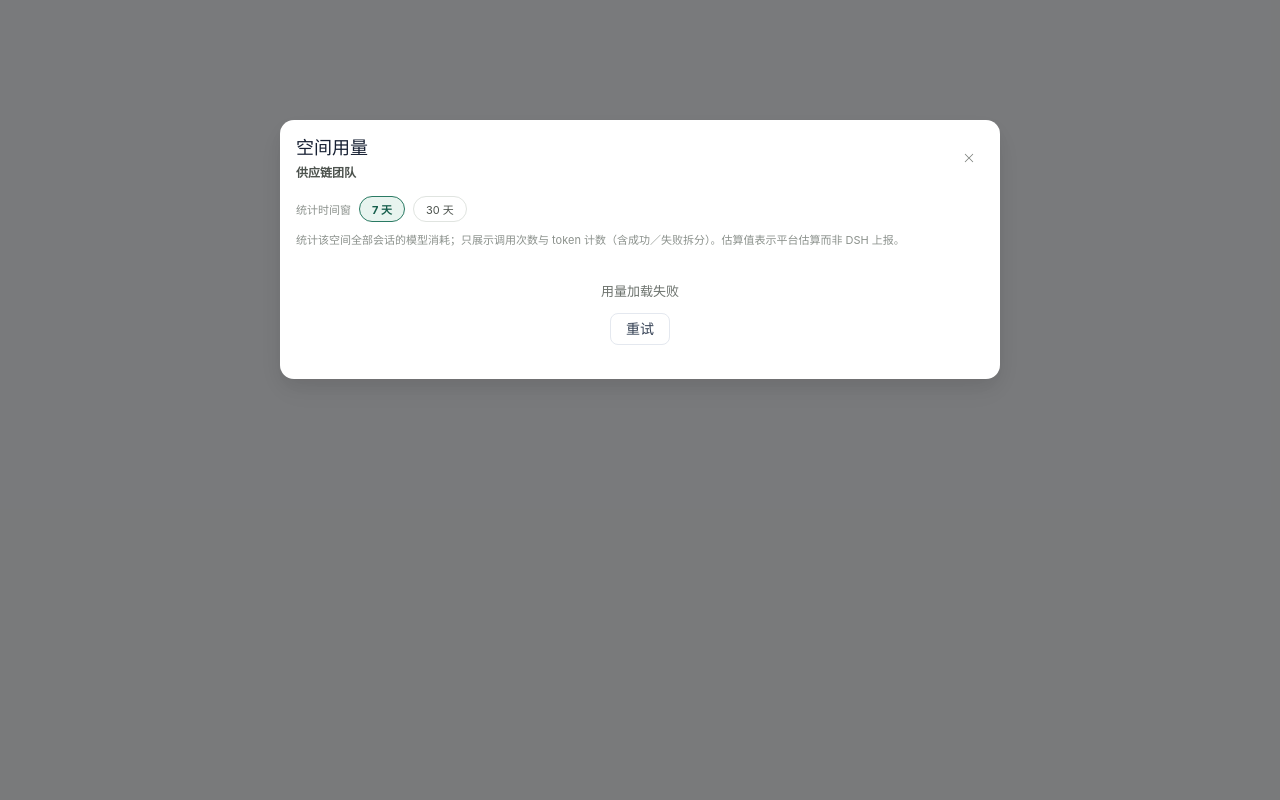
Scenario: WorkspaceUsageDialog 空间用量详情（design §2.10 / TW-09 / 4-T2） › 加载失败显示错误态，「重试」真的重新请求并恢复列表
Check: the element with test id "usage-error" is shown, box [601,283,679,345]
Check: the element with test id "usage-error" shows "用量加载失败", box [601,283,679,299]
Click the button with test id "usage-retry" at (640, 329), box [610,313,670,345]
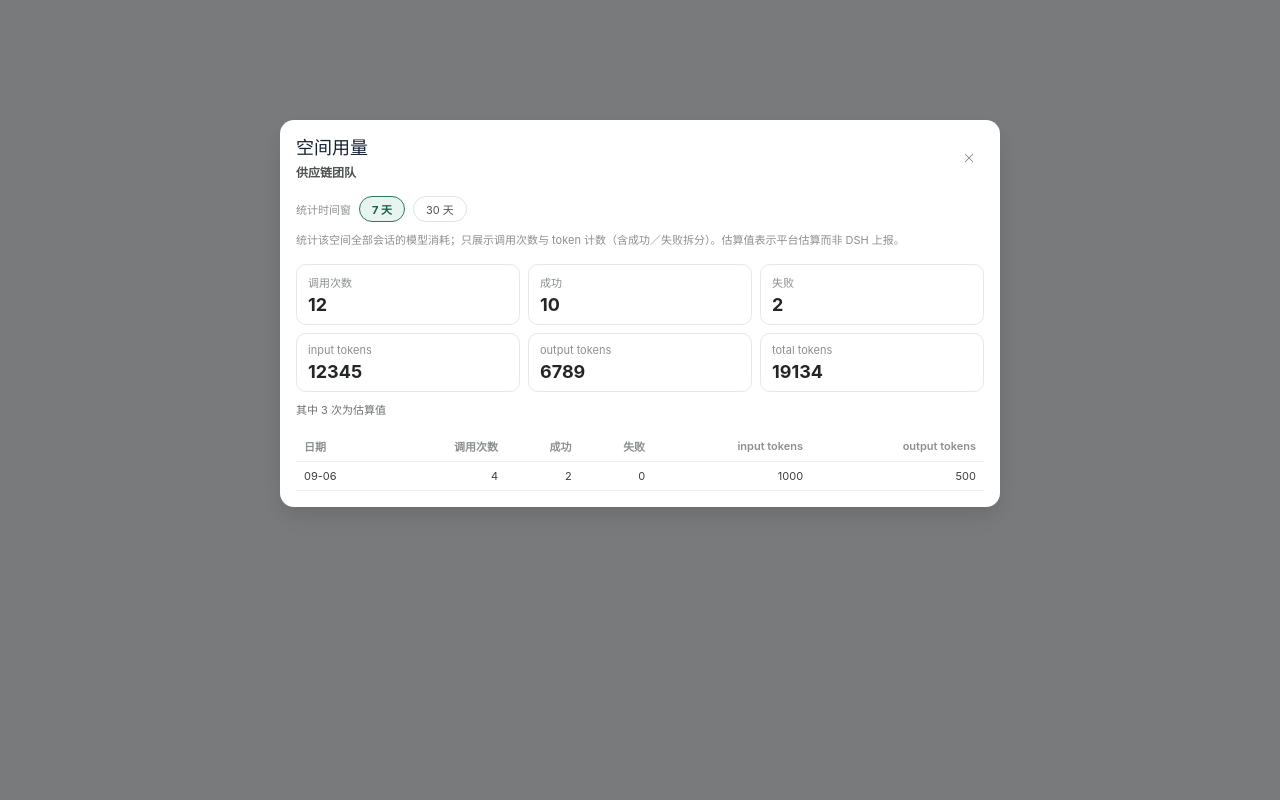
Check: the number of rows with test id "usage-daily-row" is 1, box [296,462,984,491]
